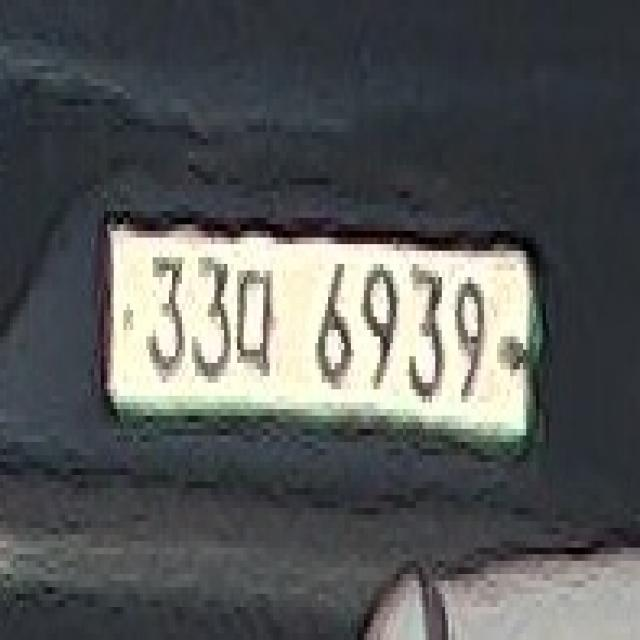3: (406, 258, 445, 402), (146, 250, 185, 382), (192, 250, 230, 382)
6: (312, 258, 354, 390)
9: (360, 258, 400, 390), (455, 277, 484, 396)
da: (231, 264, 276, 369)
license_plate: (104, 211, 533, 449)
